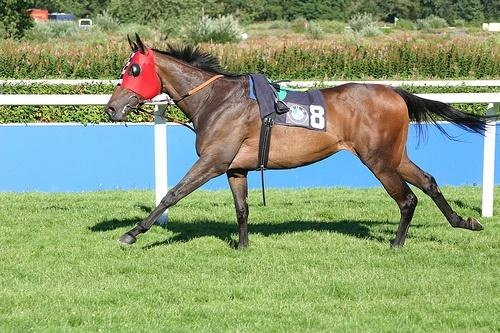horse: (99, 34, 489, 259)
